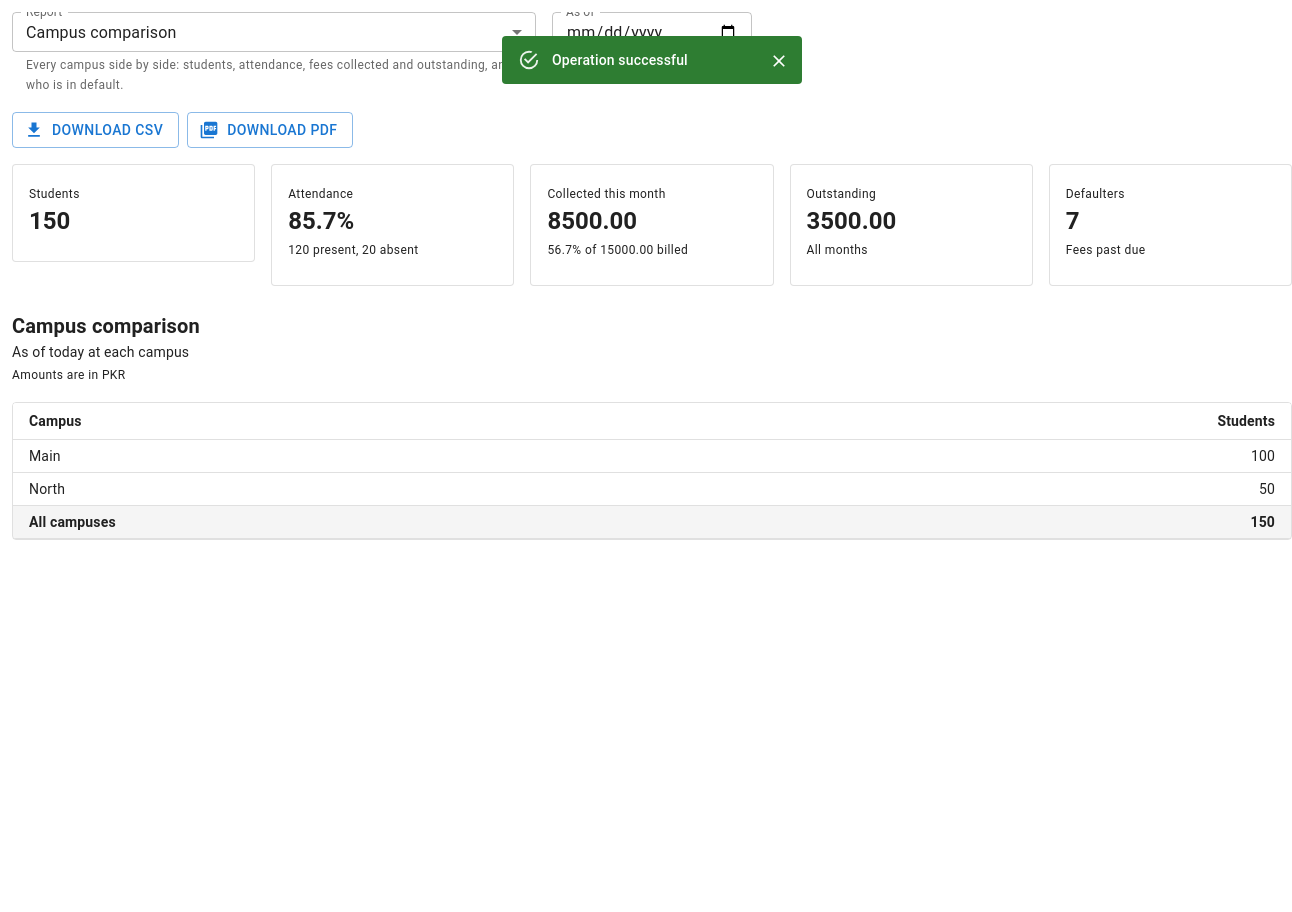
Test: ReportsManager › will not run an exam report until an exam is chosen, then asks for that exam
The width and height of the screenshot is (1292, 912).
Expected: the heading "Campus comparison" is shown, [12, 314, 200, 338]
What coordinates should you click on to do the following:
click the dropdown named "Report"
I would click on:
 (101, 32)
Its box is [26, 22, 176, 42].
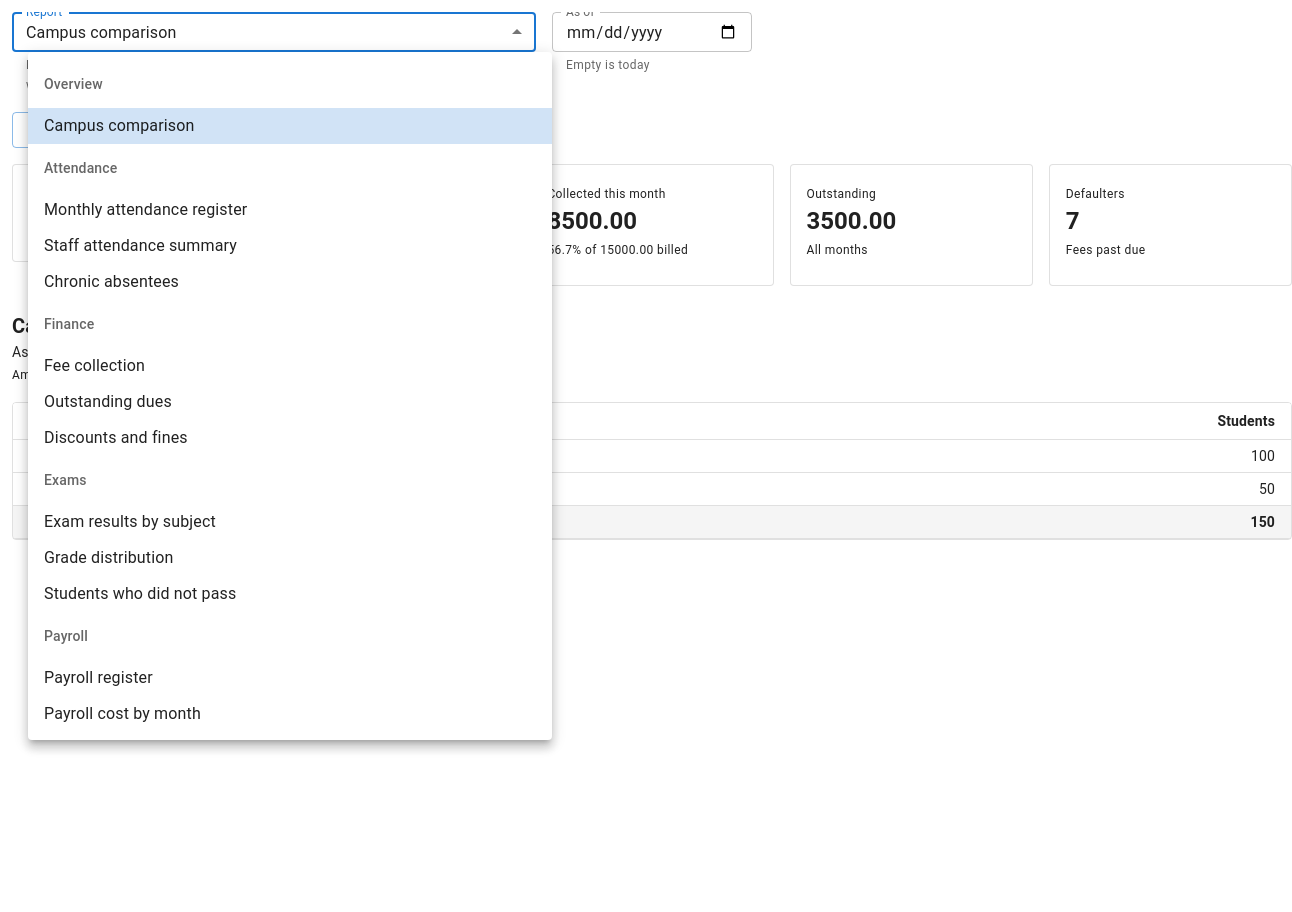
What coordinates should you click on to do the following:
click the option "Grade distribution"
I would click on:
 (109, 558)
Its box is [44, 548, 174, 567].
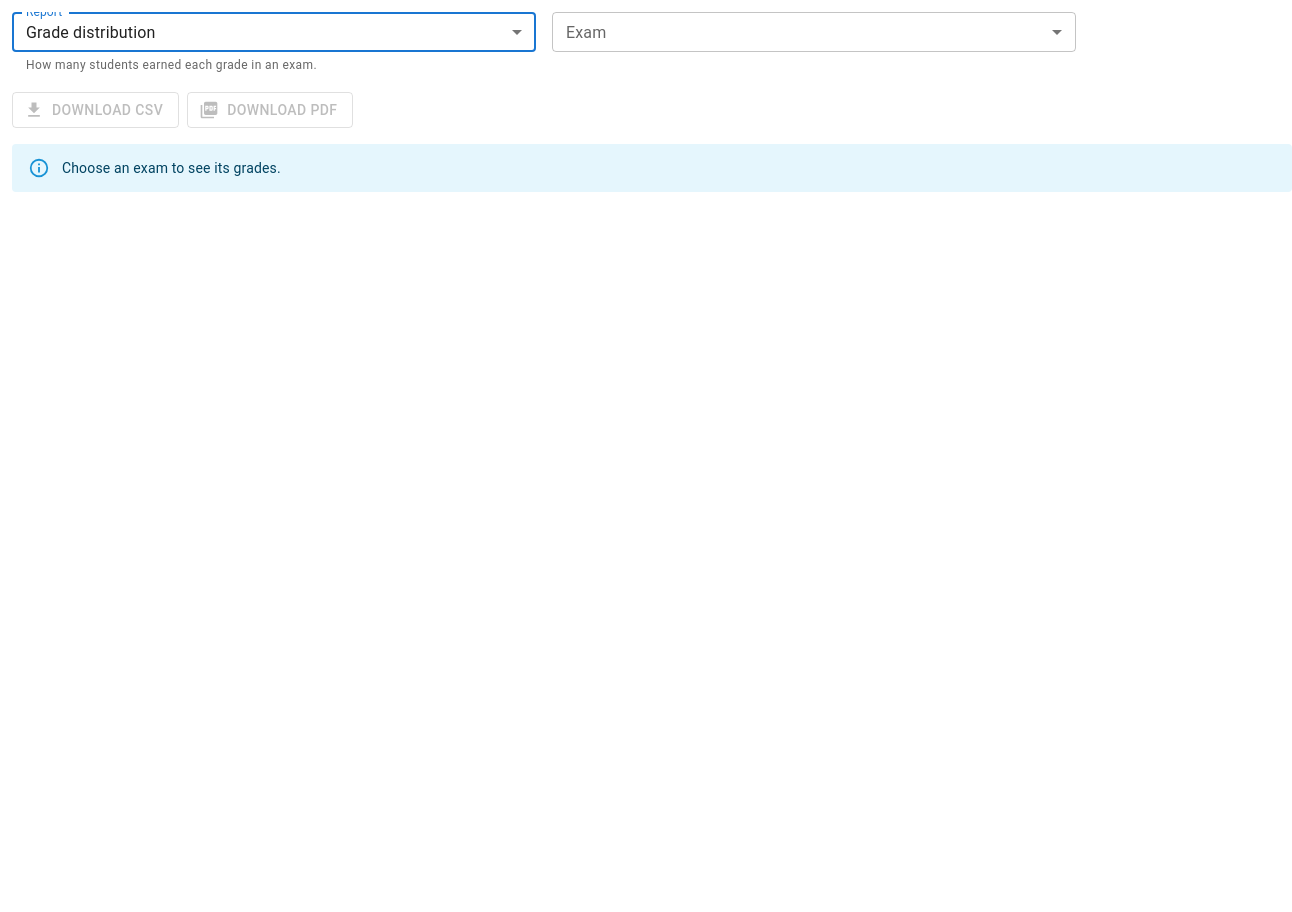
Now the text "Choose an exam to see its grades." is shown, box [62, 160, 281, 176]
Now the button "Download PDF" is disabled, box [187, 92, 354, 128]
What coordinates should you click on to do the following:
click the dropdown named "Exam"
I would click on:
 (814, 32)
Its box is [552, 12, 1076, 52].
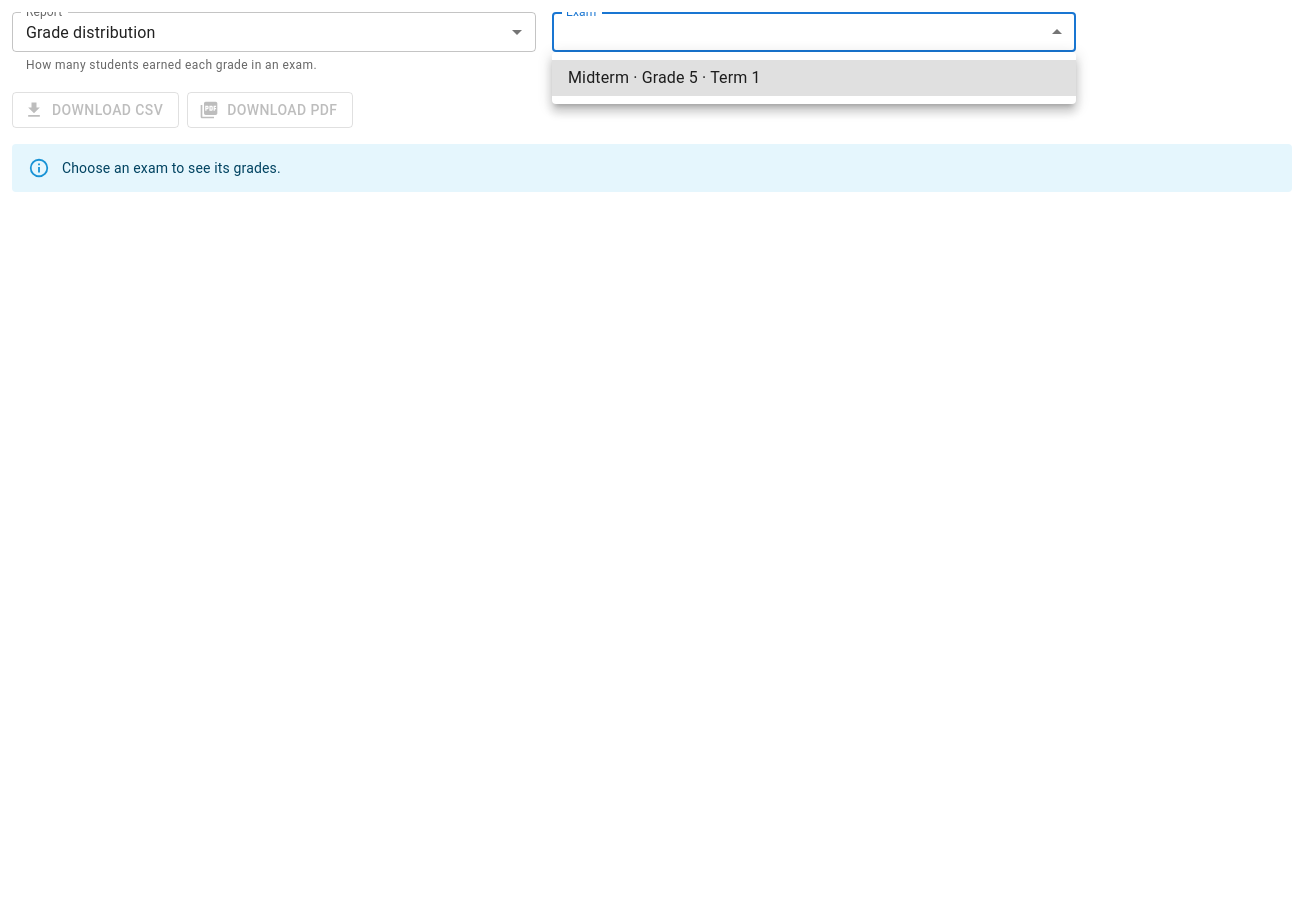
What coordinates should you click on to do the following:
click the option "Midterm · Grade 5 · Term 1"
I would click on:
 (664, 78)
Its box is [552, 60, 1076, 96].
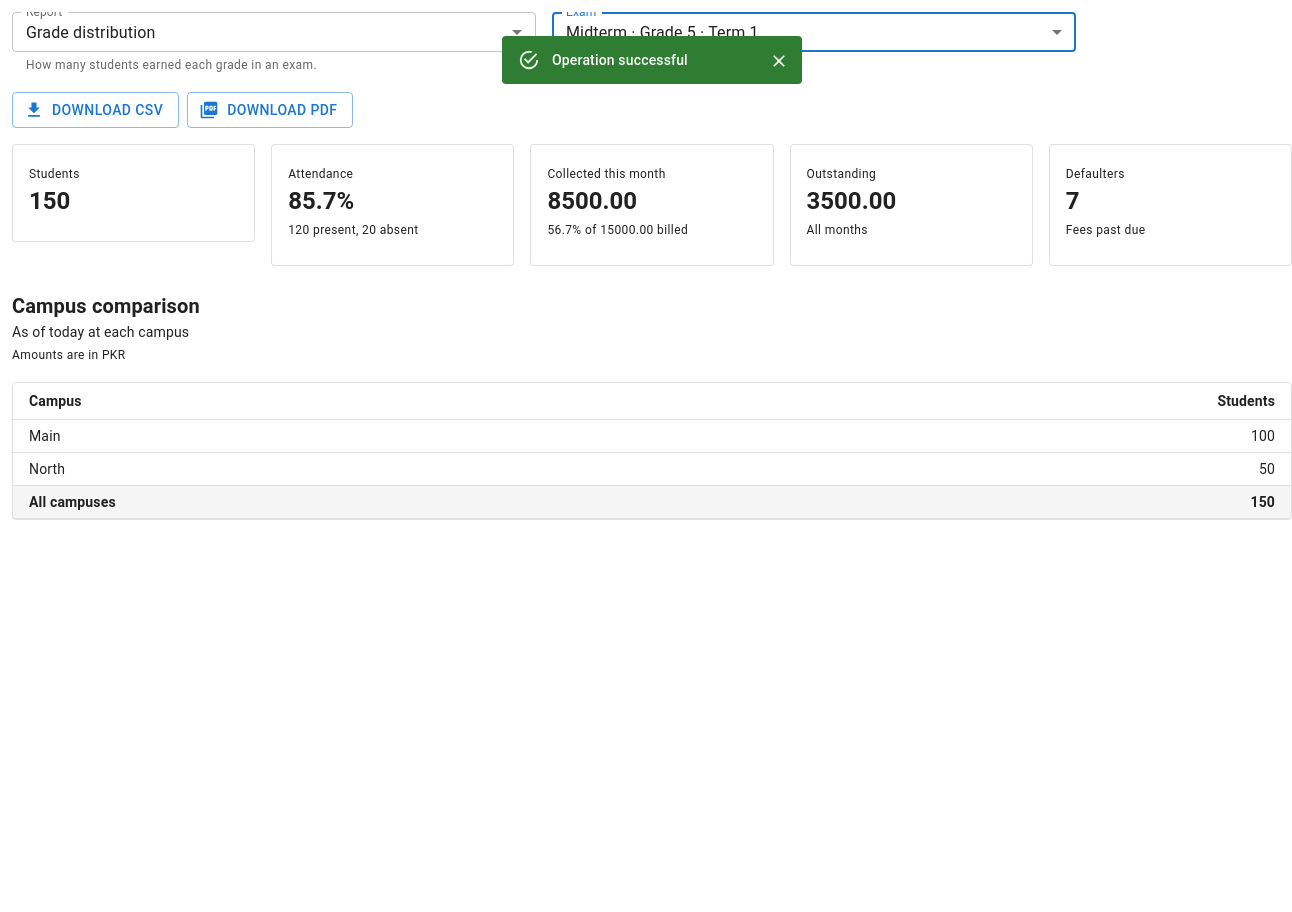
Now the button "Download PDF" is enabled, box [187, 92, 354, 128]
